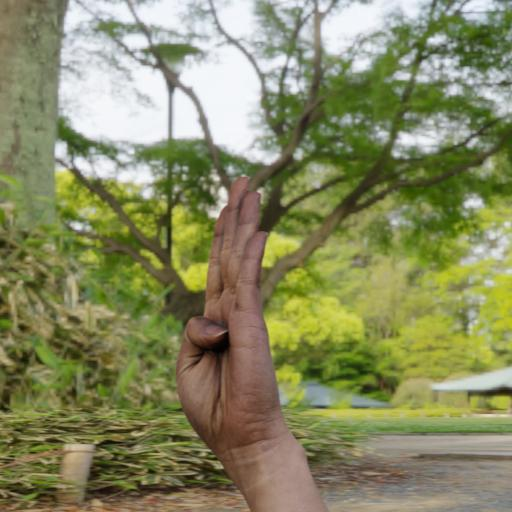B: (130, 137, 383, 512)
